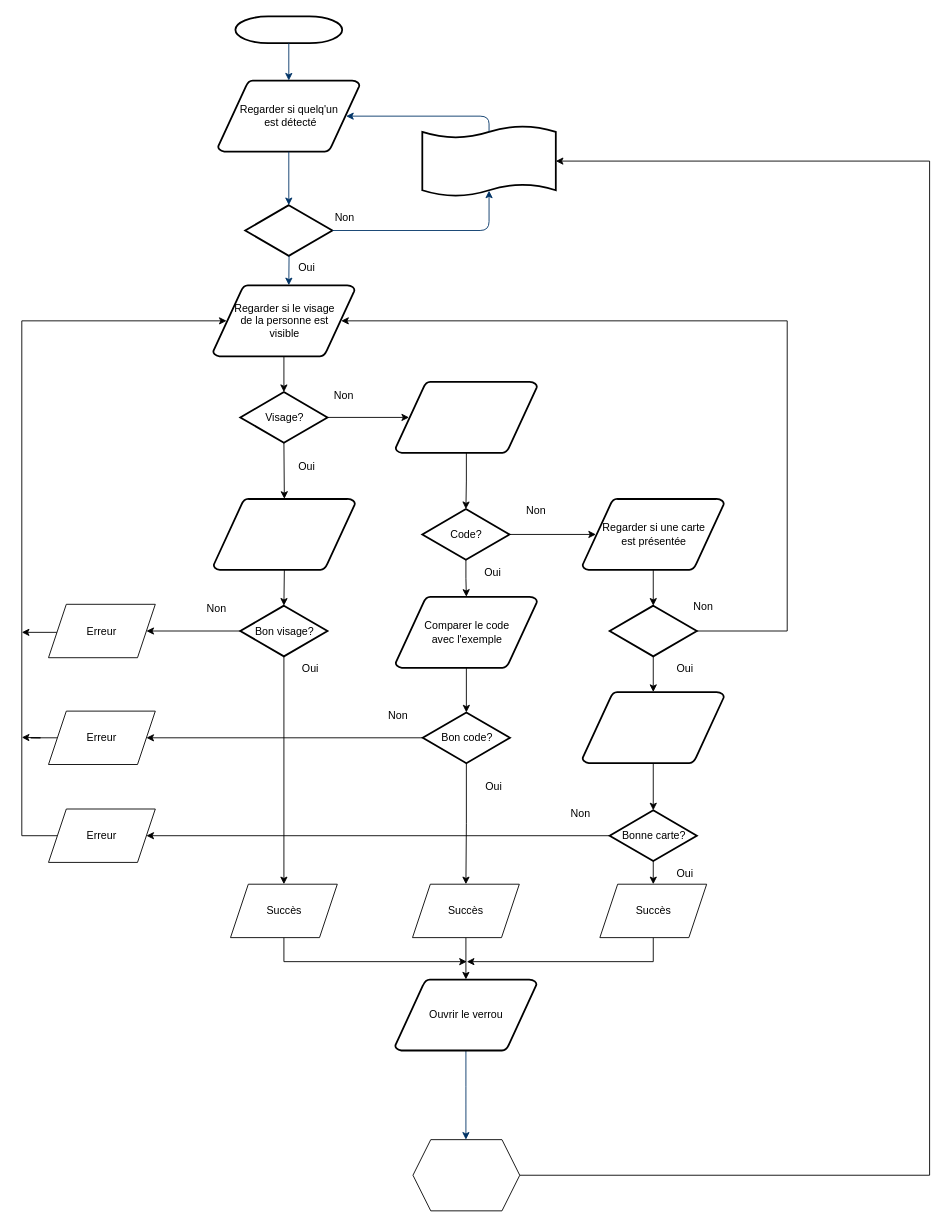
Some shapes in this 952 by 1226 pixel diagram are drawn without their labels. The centre of each missing label's shape, as x and y in pixels:
"Attendre 15s" belongs at (466,1175).
"Carte?" belongs at (652,630).
"Comparer la carte avec l'exemple" belongs at (652,727).
"Comparer le visage avec l'exemple" belongs at (284,534).
"Début" belongs at (288,29).
"Quelqu'un?" belongs at (288,230).
"Regarder si un code est tapé" belongs at (466,416).
"Retour à l'état de repos" belongs at (488,161).
